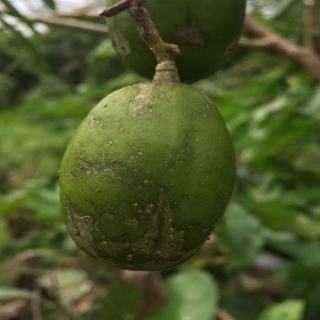coc: (59, 82, 235, 270)
